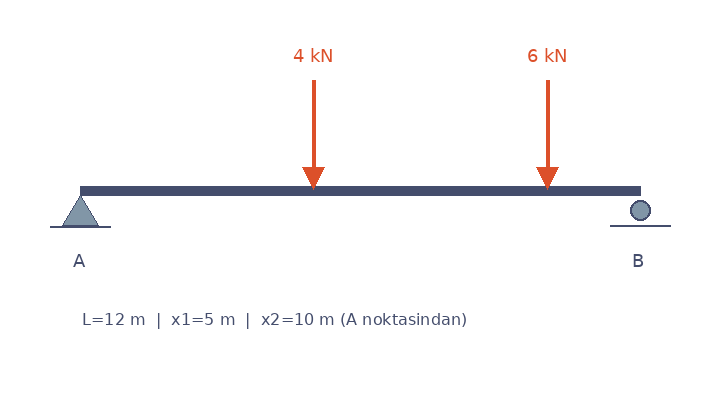pin_support: (61, 190, 99, 226)
point_load: (299, 76, 327, 190), (533, 76, 561, 190)
roller_support: (625, 196, 655, 227)
